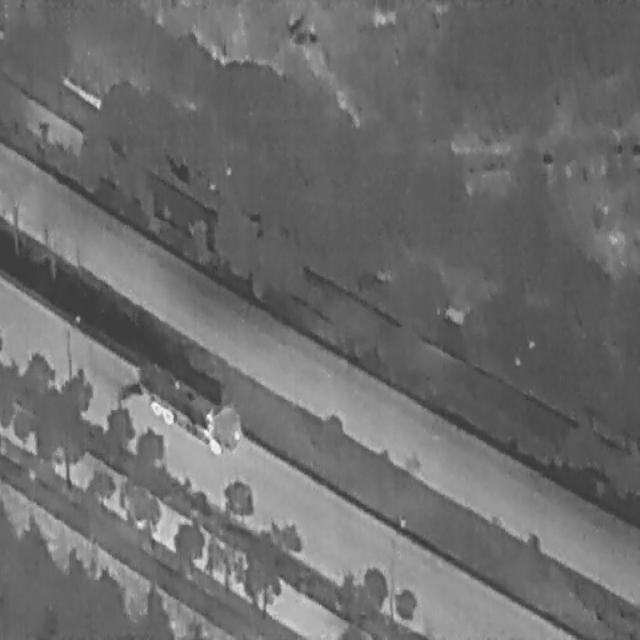OtherVehicle: (128, 352, 250, 462)
